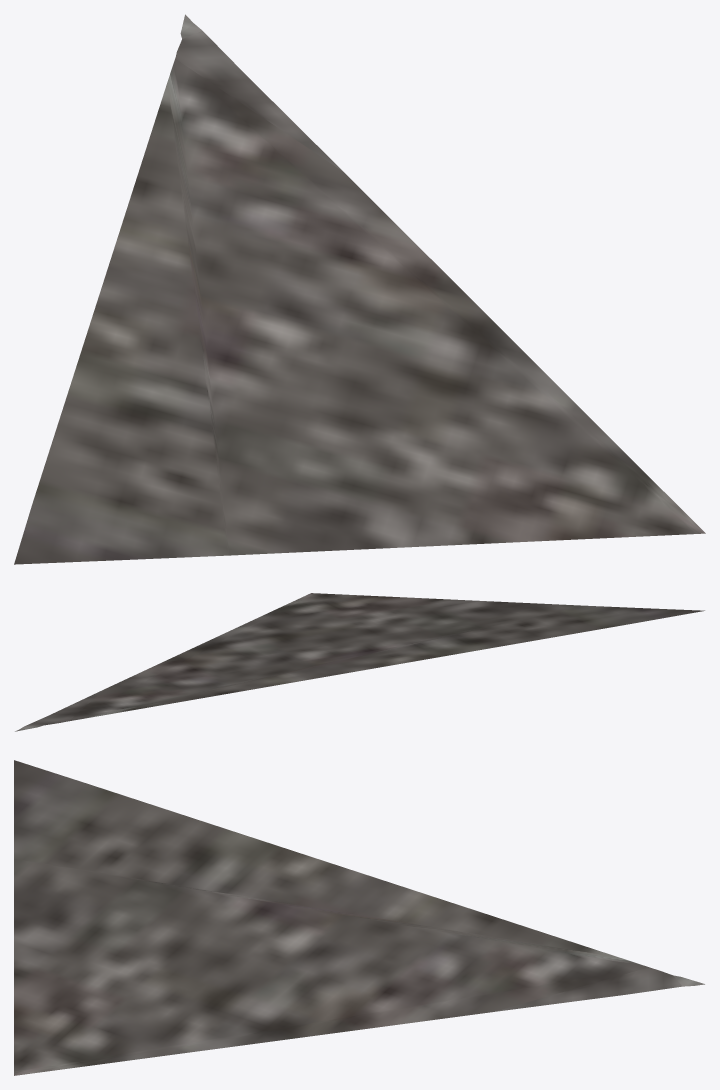
3 views of the same model, one above another, from view 1: azimuth 30°, elevation 25°; view 2: azimuth 150°, elevation 25°; view 3: azimuth 270°, elevation 25° (orthographic). The views are drawn at different scales.
Size of the model in its own units: 0.2419 by 0.0461 by 0.3154.
1 material, 1 textured.
